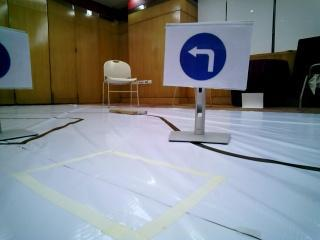left: (162, 25, 242, 87)
